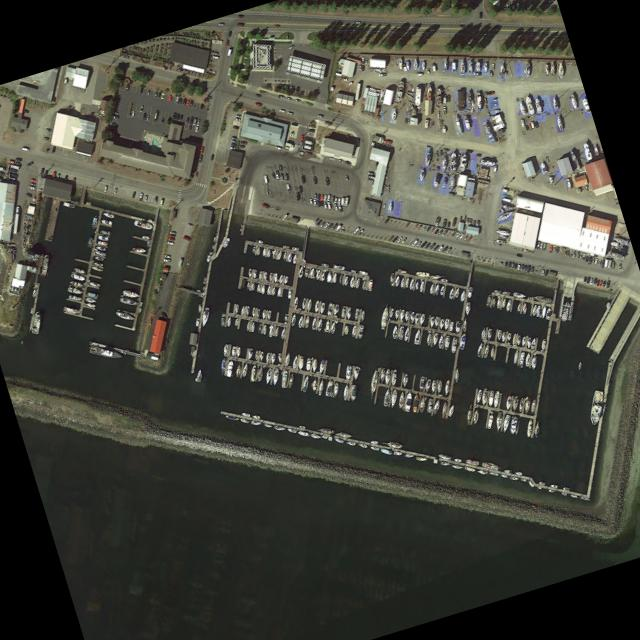large-vehicle: (11, 205, 18, 234), (342, 196, 348, 206), (181, 234, 189, 241), (284, 140, 292, 147), (9, 163, 18, 169), (334, 223, 340, 231), (339, 196, 344, 205), (20, 146, 29, 151), (226, 66, 231, 75), (262, 174, 267, 182), (225, 48, 230, 56), (492, 163, 496, 172), (441, 93, 445, 102), (441, 125, 444, 132), (0, 166, 4, 170)
ship: (588, 388, 603, 426), (86, 344, 121, 360), (522, 94, 535, 116), (481, 119, 494, 141), (378, 302, 389, 327), (567, 149, 580, 170), (30, 309, 41, 333), (496, 207, 514, 221), (368, 368, 377, 394), (38, 253, 48, 276), (132, 218, 152, 229), (529, 293, 551, 303), (581, 140, 592, 160), (394, 79, 403, 103), (559, 300, 569, 321), (452, 115, 462, 136), (114, 310, 133, 320), (610, 234, 627, 245), (118, 296, 136, 306), (605, 250, 623, 260), (579, 95, 589, 113), (508, 415, 517, 435), (480, 460, 498, 470), (500, 413, 509, 433), (412, 85, 420, 107), (441, 377, 450, 396), (457, 152, 466, 171), (532, 95, 541, 114), (199, 308, 208, 327), (410, 392, 418, 413), (493, 412, 501, 433), (121, 288, 137, 298), (388, 388, 396, 408), (464, 403, 471, 425), (384, 440, 401, 449), (448, 335, 456, 354), (381, 387, 389, 406), (403, 390, 411, 409), (457, 331, 465, 350), (300, 373, 308, 392), (348, 383, 356, 402), (479, 387, 487, 406), (516, 100, 526, 115), (61, 305, 77, 314), (396, 390, 404, 408), (417, 394, 425, 412), (248, 363, 256, 381), (270, 367, 278, 385), (279, 369, 287, 387), (324, 378, 332, 396), (493, 227, 509, 236), (554, 114, 563, 130), (315, 426, 333, 434), (522, 397, 530, 415), (377, 366, 385, 383), (412, 327, 420, 344), (569, 93, 577, 110), (510, 395, 518, 412), (69, 272, 84, 281), (218, 356, 225, 375), (491, 389, 498, 408), (66, 286, 82, 294), (389, 367, 396, 385), (263, 366, 270, 384), (341, 382, 348, 400), (434, 86, 440, 107), (532, 419, 539, 437), (431, 399, 439, 414), (449, 151, 455, 171), (479, 158, 494, 166), (475, 91, 481, 111), (463, 457, 478, 465), (525, 418, 531, 438), (383, 367, 390, 384), (225, 359, 232, 376), (317, 357, 324, 374), (316, 378, 323, 395), (528, 398, 535, 415), (486, 389, 493, 406), (409, 106, 416, 123), (442, 334, 449, 350), (396, 324, 403, 340), (400, 372, 407, 388), (460, 316, 467, 332), (255, 365, 262, 381), (356, 323, 363, 339), (296, 354, 303, 370), (331, 380, 338, 396), (351, 364, 358, 380), (423, 151, 430, 167), (439, 156, 446, 172), (414, 269, 428, 277), (550, 95, 558, 109), (335, 431, 351, 438), (529, 354, 536, 370), (475, 341, 482, 357), (471, 408, 478, 424), (538, 161, 547, 173), (430, 331, 437, 346), (417, 376, 424, 391), (423, 378, 430, 393), (434, 379, 441, 394), (452, 367, 459, 382), (240, 362, 247, 377), (290, 353, 297, 368), (286, 372, 293, 387), (462, 115, 469, 130), (511, 348, 518, 363), (474, 388, 481, 403), (486, 413, 493, 428), (61, 200, 74, 208), (100, 210, 113, 218), (446, 403, 454, 416), (388, 108, 396, 121), (591, 142, 599, 155), (85, 234, 93, 247), (440, 401, 446, 418), (523, 60, 529, 77), (458, 58, 464, 75), (465, 90, 470, 110), (131, 245, 145, 252), (424, 331, 431, 345), (390, 324, 397, 338), (453, 319, 460, 333), (432, 173, 439, 187), (511, 291, 525, 298), (436, 452, 450, 459), (557, 61, 563, 77), (516, 396, 522, 412), (221, 235, 229, 247), (86, 280, 99, 287), (68, 279, 81, 286), (90, 215, 97, 228), (458, 288, 465, 301), (465, 285, 472, 298), (414, 454, 427, 461), (407, 276, 414, 289), (484, 292, 491, 305), (436, 333, 442, 348), (402, 325, 408, 340), (223, 414, 238, 420), (283, 351, 289, 366), (303, 313, 309, 328), (291, 294, 297, 309), (304, 356, 310, 371), (310, 357, 316, 372), (344, 364, 350, 379), (464, 300, 470, 315), (523, 351, 529, 366), (518, 350, 524, 365), (504, 395, 510, 410), (195, 367, 201, 382), (72, 266, 84, 273), (67, 294, 81, 300), (99, 218, 111, 225), (418, 312, 424, 326), (408, 310, 414, 324), (397, 308, 404, 320), (234, 363, 240, 377), (325, 302, 331, 316), (305, 297, 311, 311), (418, 168, 424, 182), (448, 175, 454, 189), (452, 286, 459, 298), (427, 273, 441, 279), (504, 297, 510, 311), (450, 462, 462, 469), (378, 447, 390, 454), (296, 429, 308, 436), (308, 432, 320, 439), (482, 343, 488, 357), (564, 177, 571, 189), (549, 60, 554, 76), (219, 310, 224, 326), (366, 278, 372, 291), (89, 265, 102, 271), (92, 249, 105, 255), (442, 317, 448, 330), (329, 320, 335, 333), (296, 314, 302, 327), (318, 301, 324, 314), (358, 308, 364, 321), (339, 305, 345, 318), (352, 307, 358, 320), (544, 306, 550, 319), (418, 279, 424, 292), (433, 282, 439, 295), (529, 336, 535, 349), (485, 327, 491, 340), (479, 326, 485, 339), (267, 324, 273, 337), (440, 175, 447, 186), (425, 84, 430, 99), (85, 291, 97, 297), (83, 296, 95, 302), (82, 301, 94, 307), (98, 229, 110, 235), (437, 317, 443, 329), (432, 315, 438, 327), (246, 347, 252, 359), (325, 270, 331, 282), (302, 265, 308, 277), (308, 266, 314, 278), (310, 378, 316, 390), (331, 303, 337, 315), (344, 307, 350, 319), (387, 271, 393, 283), (393, 274, 399, 286), (520, 301, 526, 313), (530, 303, 536, 315), (534, 304, 540, 316), (447, 286, 453, 298), (462, 465, 474, 471), (488, 345, 494, 357), (499, 330, 505, 342), (539, 338, 545, 350), (475, 468, 487, 474), (430, 378, 435, 392), (313, 299, 318, 313), (498, 62, 503, 76), (332, 436, 342, 443), (332, 263, 343, 269), (96, 234, 107, 240), (447, 320, 453, 331), (234, 346, 240, 357), (249, 419, 260, 425), (272, 424, 283, 430), (495, 329, 501, 340), (428, 315, 433, 328), (222, 342, 227, 355), (316, 317, 321, 330), (310, 316, 315, 329), (350, 323, 355, 336), (297, 264, 302, 277), (540, 305, 545, 318), (510, 332, 515, 345), (490, 107, 499, 114), (94, 244, 104, 250), (348, 275, 353, 287), (354, 276, 359, 288), (96, 239, 106, 245), (413, 311, 418, 323), (264, 351, 269, 363), (238, 417, 248, 423), (269, 352, 274, 364), (300, 296, 305, 308), (290, 313, 295, 325), (518, 117, 524, 127), (412, 57, 417, 69), (515, 300, 520, 312), (396, 267, 406, 273), (500, 296, 505, 308), (403, 275, 408, 287), (368, 444, 378, 450), (525, 336, 530, 348), (442, 57, 446, 71), (526, 479, 533, 487), (403, 310, 408, 321), (388, 307, 393, 318), (342, 274, 347, 285), (337, 272, 342, 283), (331, 271, 336, 282), (230, 345, 235, 356), (257, 350, 262, 361), (277, 272, 282, 283), (286, 251, 291, 262), (314, 268, 319, 279), (495, 296, 500, 307), (438, 460, 449, 465), (438, 284, 443, 295), (428, 282, 433, 293), (515, 334, 520, 345), (520, 335, 525, 346), (386, 201, 391, 212), (260, 308, 265, 319), (249, 320, 254, 331), (261, 323, 266, 334), (273, 325, 278, 336), (279, 327, 284, 338), (265, 309, 270, 320), (244, 319, 249, 330), (239, 304, 244, 315), (225, 315, 230, 326), (392, 449, 401, 455), (324, 318, 328, 331), (397, 57, 401, 70), (93, 255, 103, 260), (360, 278, 365, 288), (30, 287, 35, 297), (393, 308, 398, 318), (285, 427, 295, 432), (276, 352, 281, 362), (261, 270, 266, 280), (267, 271, 272, 281), (239, 411, 249, 416), (276, 249, 281, 259), (291, 253, 296, 263), (319, 271, 324, 281), (342, 324, 347, 334), (494, 238, 504, 243), (403, 452, 413, 457), (344, 440, 354, 445), (356, 442, 366, 447), (487, 470, 497, 475), (505, 332, 510, 342), (286, 288, 291, 298), (275, 286, 280, 296), (270, 285, 275, 295), (265, 284, 270, 294), (196, 302, 201, 312), (256, 322, 261, 332), (244, 305, 249, 315), (246, 267, 251, 277), (259, 283, 264, 293), (543, 63, 547, 75), (467, 60, 471, 72), (92, 261, 101, 266), (358, 269, 367, 274), (250, 413, 259, 418), (438, 277, 447, 282), (508, 475, 517, 480), (201, 275, 206, 284), (576, 360, 581, 369), (282, 312, 287, 321), (249, 281, 254, 290), (253, 349, 257, 360), (272, 271, 276, 282), (450, 60, 454, 71), (475, 61, 479, 72), (482, 61, 486, 72), (255, 307, 259, 318), (282, 275, 287, 283), (254, 238, 262, 243), (420, 60, 424, 70), (404, 60, 408, 70), (452, 457, 460, 462), (579, 495, 587, 500), (548, 483, 556, 488), (513, 470, 521, 475), (399, 276, 403, 286), (490, 297, 494, 307), (250, 306, 254, 316), (257, 269, 261, 279), (234, 303, 238, 313), (233, 316, 237, 326), (319, 262, 328, 266), (271, 248, 275, 257), (414, 280, 418, 289), (500, 290, 509, 294), (205, 253, 209, 262), (255, 282, 259, 291), (194, 317, 198, 326), (140, 234, 147, 239), (290, 245, 297, 250), (537, 480, 544, 485), (518, 477, 525, 482), (261, 247, 265, 255), (255, 246, 259, 254), (265, 248, 269, 256), (281, 251, 285, 259), (568, 493, 576, 497), (502, 468, 510, 472), (499, 473, 507, 477), (277, 164, 281, 172), (245, 281, 249, 289), (583, 184, 587, 191), (28, 306, 32, 313), (297, 424, 304, 428), (250, 245, 254, 252), (525, 296, 532, 300), (561, 486, 568, 490), (369, 439, 376, 443), (319, 434, 326, 438), (492, 289, 499, 293), (281, 244, 288, 248), (211, 235, 215, 242), (297, 140, 301, 147), (488, 409, 493, 414), (296, 150, 302, 154), (559, 491, 565, 495), (547, 488, 553, 492), (308, 380, 312, 386), (136, 307, 140, 313), (145, 240, 149, 246), (252, 269, 255, 277), (138, 300, 141, 307), (349, 268, 354, 272), (210, 243, 213, 249), (207, 250, 211, 254), (204, 306, 208, 310), (201, 285, 204, 290), (19, 339, 22, 344)
small-vehicle: (439, 228, 447, 236), (427, 241, 435, 249), (159, 310, 166, 318), (464, 234, 472, 241), (419, 239, 426, 247), (410, 238, 417, 246), (395, 235, 402, 243), (423, 224, 430, 232), (427, 225, 434, 233), (433, 217, 439, 226), (497, 206, 504, 213), (356, 228, 363, 235), (311, 217, 318, 224), (280, 213, 287, 220), (25, 160, 32, 167), (457, 232, 464, 239), (453, 231, 460, 238), (382, 216, 389, 223), (399, 236, 406, 243), (402, 220, 409, 227), (431, 243, 438, 250), (411, 222, 418, 229), (419, 224, 426, 231), (436, 227, 443, 234), (260, 202, 268, 208), (299, 174, 305, 182), (173, 95, 178, 104), (137, 191, 142, 200), (336, 203, 341, 212), (273, 169, 278, 178), (604, 279, 609, 288), (352, 226, 358, 233), (322, 221, 328, 228), (313, 220, 320, 226), (24, 191, 31, 197), (303, 150, 310, 156), (449, 230, 455, 237), (423, 241, 429, 248), (390, 235, 397, 241), (386, 234, 392, 241), (415, 223, 421, 230), (436, 244, 443, 250), (444, 246, 450, 253), (198, 145, 203, 153), (194, 118, 199, 126), (191, 117, 196, 125), (284, 183, 289, 191), (528, 120, 533, 128), (466, 217, 471, 225), (450, 217, 455, 225), (441, 218, 446, 226), (210, 54, 218, 59), (323, 120, 331, 125), (528, 265, 533, 273), (547, 244, 552, 252), (574, 250, 579, 258), (580, 252, 585, 260), (330, 223, 336, 229), (474, 218, 478, 227), (461, 233, 467, 239), (287, 43, 293, 49), (414, 240, 420, 246), (432, 227, 438, 233), (535, 240, 539, 249), (441, 245, 447, 251), (231, 124, 238, 129), (130, 190, 135, 197), (152, 196, 157, 203), (325, 201, 330, 208), (332, 203, 337, 210), (315, 192, 320, 199), (276, 93, 283, 98), (293, 98, 300, 103), (327, 155, 334, 160), (321, 193, 326, 200), (297, 184, 302, 191), (159, 92, 164, 99), (170, 112, 175, 119), (110, 113, 117, 118), (50, 145, 55, 152), (38, 168, 43, 175), (54, 172, 59, 179), (277, 107, 284, 112), (547, 176, 552, 183), (533, 120, 538, 127), (424, 67, 429, 74), (343, 159, 350, 164), (343, 174, 348, 181), (365, 177, 372, 182), (441, 146, 448, 151), (518, 263, 523, 270), (581, 275, 586, 282), (525, 264, 530, 271), (540, 242, 545, 249), (570, 250, 575, 257), (583, 254, 588, 261), (586, 256, 591, 263), (161, 257, 169, 261), (197, 154, 201, 162), (129, 109, 133, 117), (102, 184, 106, 192), (167, 230, 175, 234), (158, 198, 162, 206), (253, 101, 261, 105), (324, 176, 328, 184), (124, 82, 128, 90), (26, 185, 34, 189), (485, 90, 493, 94), (473, 71, 481, 75), (490, 62, 494, 70), (445, 93, 449, 101), (383, 139, 391, 143), (522, 263, 526, 271), (509, 261, 513, 269), (377, 72, 385, 76), (610, 260, 614, 268), (163, 253, 169, 258), (230, 141, 236, 146), (326, 222, 331, 228), (318, 221, 324, 226), (175, 76, 181, 81), (176, 115, 181, 121), (174, 113, 179, 119), (158, 116, 163, 122), (108, 121, 114, 126), (42, 135, 48, 140), (13, 160, 19, 165), (14, 156, 20, 161), (366, 170, 372, 175), (185, 222, 192, 226), (193, 170, 197, 177), (209, 153, 213, 160), (239, 139, 246, 143), (166, 240, 173, 244), (166, 236, 173, 240), (184, 98, 188, 105), (112, 186, 116, 193), (312, 198, 316, 205), (315, 199, 319, 206), (322, 201, 326, 208), (284, 96, 291, 100), (273, 145, 280, 149), (318, 193, 322, 200), (283, 173, 287, 180), (270, 171, 274, 178), (278, 173, 282, 180), (312, 176, 316, 183), (295, 192, 299, 199), (336, 196, 340, 203), (339, 77, 346, 81), (144, 113, 148, 120), (187, 123, 191, 130), (184, 116, 188, 123), (188, 116, 192, 123), (141, 112, 145, 119), (138, 104, 142, 111), (145, 88, 149, 95), (285, 110, 292, 114), (315, 113, 322, 117), (415, 71, 422, 75), (463, 216, 467, 223), (601, 279, 605, 286), (597, 279, 601, 286), (594, 278, 598, 285), (585, 275, 589, 282), (543, 268, 547, 275), (502, 260, 506, 267), (588, 277, 592, 284), (216, 22, 223, 26), (226, 29, 230, 36), (235, 22, 242, 26), (299, 134, 303, 141), (290, 121, 297, 125), (515, 262, 519, 269), (538, 242, 542, 249), (551, 244, 555, 251), (554, 245, 558, 252), (590, 256, 594, 263), (593, 257, 597, 264), (596, 258, 600, 265), (230, 136, 236, 140), (228, 145, 234, 149), (237, 143, 243, 147), (233, 117, 239, 121), (234, 113, 240, 117), (181, 98, 185, 104), (188, 99, 192, 105), (307, 198, 311, 204), (294, 87, 298, 93), (254, 93, 260, 97), (312, 192, 316, 198), (325, 194, 329, 200), (177, 97, 181, 103), (166, 94, 170, 100), (424, 144, 430, 148), (44, 127, 50, 131), (138, 86, 142, 92), (152, 90, 156, 96), (22, 108, 28, 112), (29, 177, 35, 181), (63, 174, 67, 180), (71, 176, 75, 182), (488, 69, 492, 75), (336, 158, 342, 162), (442, 105, 445, 113), (592, 277, 596, 283), (363, 57, 367, 63), (515, 252, 521, 256), (506, 261, 510, 267), (359, 64, 363, 70), (224, 39, 228, 45), (307, 128, 313, 132), (578, 251, 582, 257), (167, 233, 174, 236), (143, 194, 146, 201), (527, 122, 530, 129), (446, 220, 449, 227), (438, 148, 441, 155), (428, 28, 435, 31), (515, 2, 518, 9), (352, 20, 359, 23), (360, 56, 363, 63), (540, 268, 543, 275), (617, 262, 620, 269), (230, 139, 235, 143), (318, 200, 322, 205), (111, 110, 116, 114), (7, 159, 12, 163), (29, 181, 34, 185), (199, 102, 202, 108), (333, 197, 336, 203), (458, 24, 464, 27), (403, 117, 406, 123), (434, 150, 437, 156), (478, 11, 481, 17), (357, 64, 360, 70), (236, 14, 242, 17), (272, 23, 278, 26), (194, 126, 197, 131), (211, 51, 216, 54), (157, 90, 159, 96), (0, 171, 3, 175), (547, 0, 553, 2)
